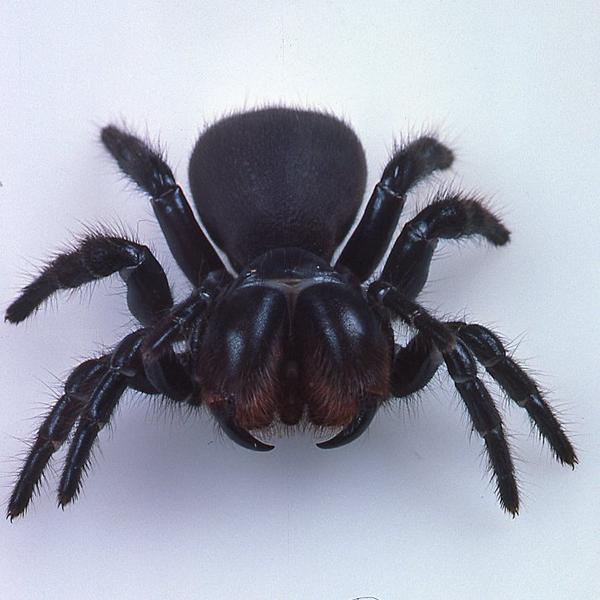Tarantula_Spider: (5, 105, 577, 519)
